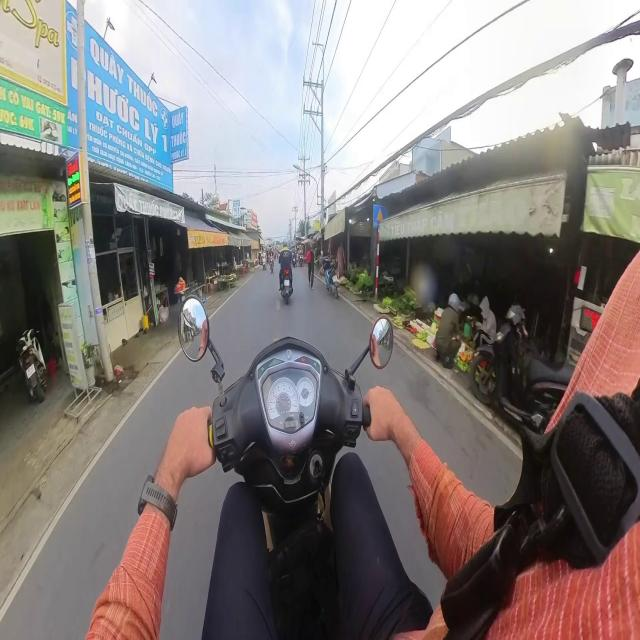motorcycle: (208, 318, 393, 637), (470, 305, 573, 432), (18, 330, 46, 402), (323, 257, 338, 298), (280, 268, 292, 304), (270, 260, 273, 273)
